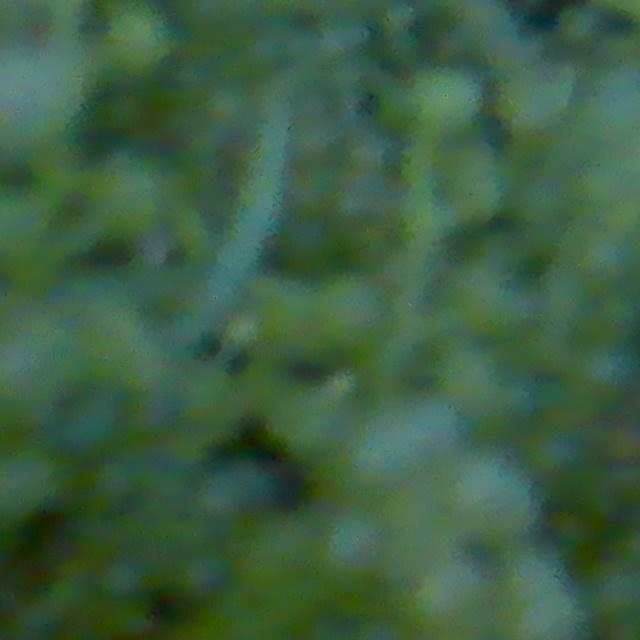SeaGrape: (0, 45, 94, 149), (434, 459, 536, 548), (84, 151, 174, 238), (0, 327, 75, 425), (410, 555, 490, 634), (504, 568, 588, 640), (313, 273, 386, 348), (0, 442, 62, 524), (315, 512, 385, 584), (107, 10, 180, 75), (414, 63, 483, 131), (0, 201, 51, 269)
